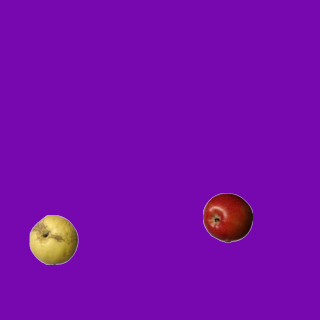Apple Braeburn: (202, 192, 252, 242)
Apple Golden 1: (28, 214, 78, 264)
